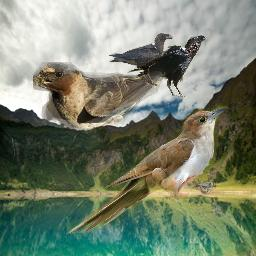Crow: (127, 35, 207, 97), (109, 33, 173, 86)
Cuckoo: (66, 105, 228, 234)
Swallow: (33, 62, 166, 134)
